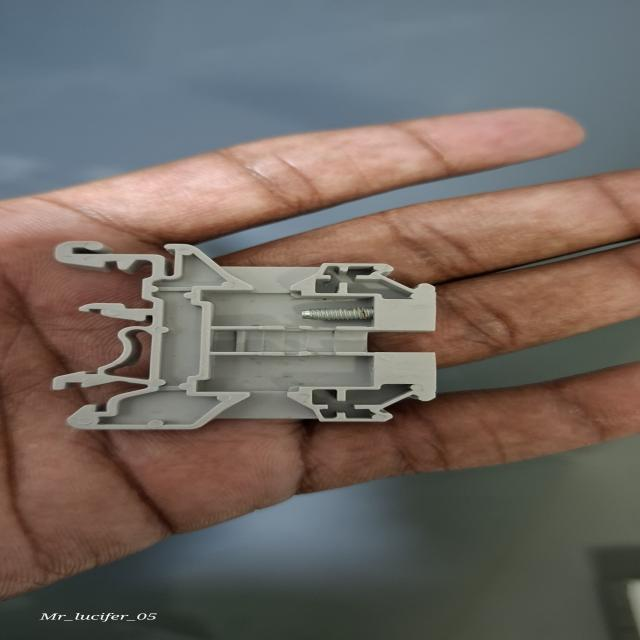Reject: (46, 236, 452, 428)
